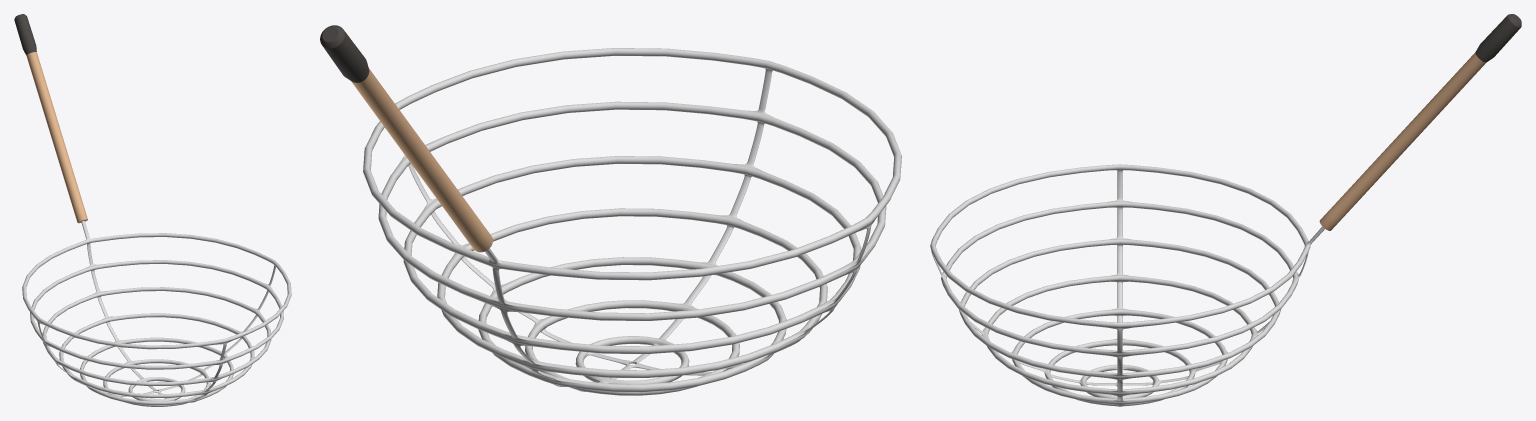
Rendered from Strainer.glb.
3 renders of one model, left to right at view 1: azimuth 30°, elevation 25°; view 2: azimuth 150°, elevation 25°; view 3: azimuth 270°, elevation 25°, orthographic. The views are drawn at different scales.
Visible parts, largest first — view 1: Sphere.003, Cylinder; view 2: Sphere.003, Cylinder; view 3: Sphere.003, Cylinder.
Part boxes in pixels (box(x1,y1,x2,y2)): Sphere.003: box(22, 221, 291, 406); Cylinder: box(14, 14, 87, 223); Sphere.003: box(363, 48, 901, 395); Cylinder: box(320, 25, 492, 252); Sphere.003: box(930, 164, 1324, 406); Cylinder: box(1319, 14, 1521, 230).
Size of the model in its own units: 1.98 by 2.16 by 3.08.
